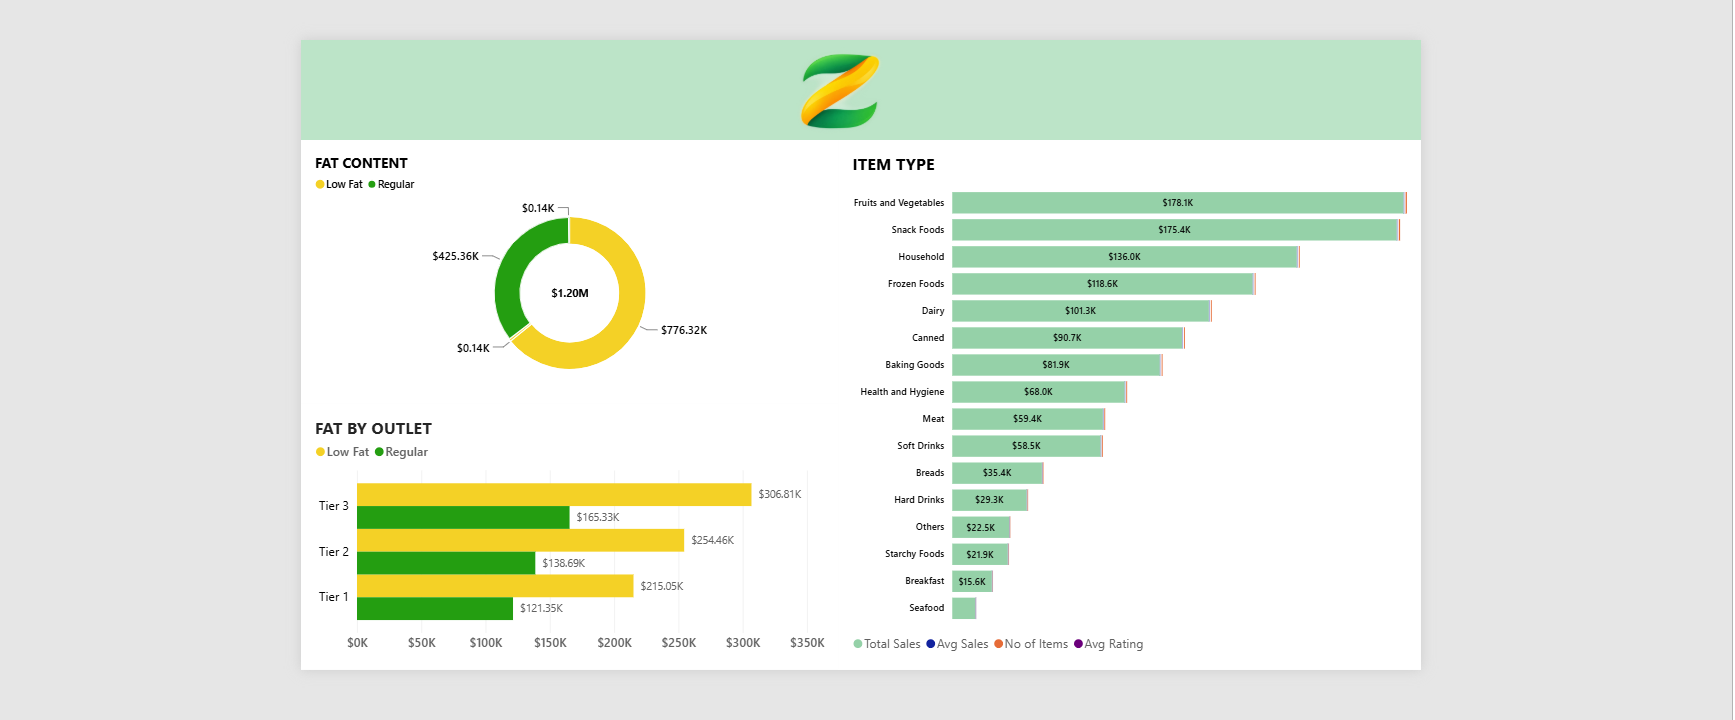

This screenshot's page, from the dashboard's own definition file:
{"tool":"powerbi","page":{"name":"Products","canvas":[1280,720],"ordinal":2},"visuals":[{"type":"donutChart","title":"FAT CONTENT","fields":{"Category":["BlinkIT Grocery Data.Item Fat Content"],"Y":["ZivRo Grocery Data.Total Sales","ZivRo Grocery Data.Avg Sales","ZivRo Grocery Data.No of Items","ZivRo Grocery Data.Avg Rating"]},"box":[0,114.3,614.3,301.4],"z":0},{"type":"clusteredBarChart","title":"FAT BY OUTLET","fields":{"Category":["BlinkIT Grocery Data.Outlet Location Type"],"Series":["BlinkIT Grocery Data.Item Fat Content"],"Y":["ZivRo Grocery Data.Total Sales"]},"box":[0,415.7,614.3,304.3],"z":1000},{"type":"barChart","title":"ITEM TYPE","fields":{"Category":["BlinkIT Grocery Data.Item Type"],"Y":["ZivRo Grocery Data.Total Sales","ZivRo Grocery Data.Avg Sales","ZivRo Grocery Data.No of Items","ZivRo Grocery Data.Avg Rating"]},"box":[614.3,114.3,665.7,605.7],"z":2000},{"type":"shape","box":[0,0,1280,114.3],"z":2001},{"type":"image","box":[362.9,7.1,504.3,100],"z":2002}]}

Visuals, with their boxes on the page's 1280x720 design canvas (x1, y1, x2, y2). These are canvas units, not pixel positions in the 1735x720 screenshot, which may show the page scaled, cropped or inside an application window:
"FAT CONTENT" donutChart: [0,114,614,416]
"FAT BY OUTLET" clusteredBarChart: [0,416,614,720]
"ITEM TYPE" barChart: [614,114,1280,720]
shape: [0,0,1280,114]
image: [363,7,867,107]
